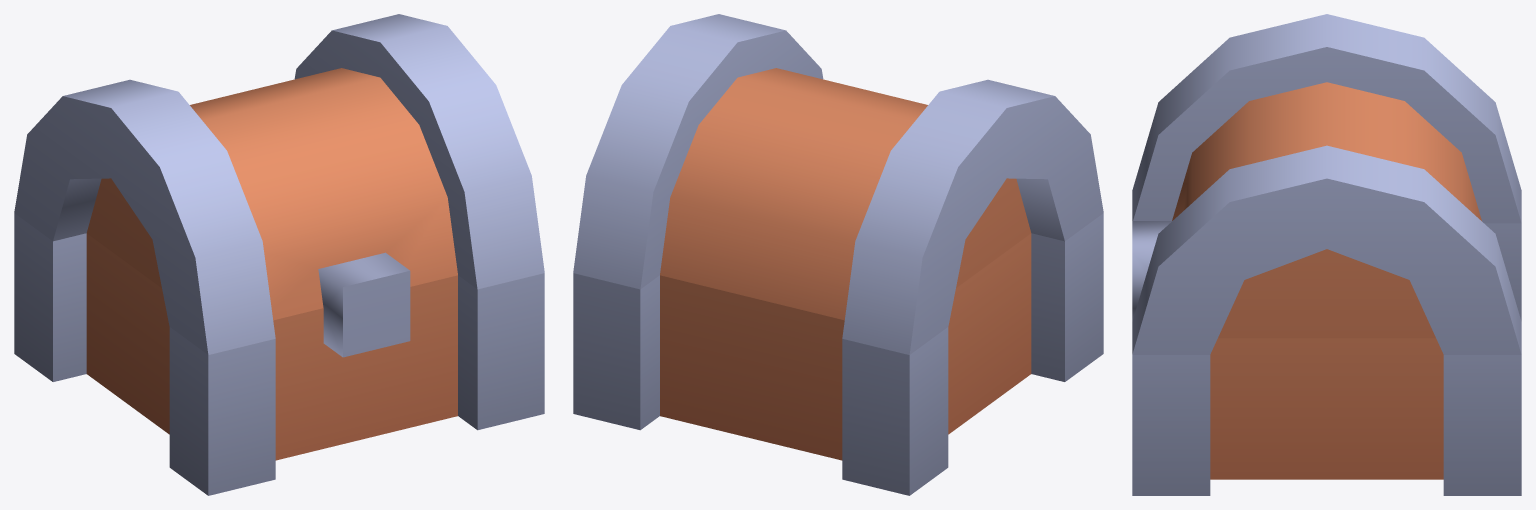
The model's file is chest.glb.
3 renders of one model, left to right at view 1: azimuth 30°, elevation 25°; view 2: azimuth 150°, elevation 25°; view 3: azimuth 270°, elevation 25°, orthographic.
Visible parts, largest first — view 1: lid, chest; view 2: lid, chest; view 3: lid, chest.
Boxes of the visible parts, x1=… form: lid: x1=14, y1=14, x2=544, y2=357; chest: x1=14, y1=213, x2=544, y2=495; lid: x1=573, y1=14, x2=1103, y2=354; chest: x1=573, y1=213, x2=1103, y2=495; lid: x1=1132, y1=14, x2=1521, y2=354; chest: x1=1132, y1=223, x2=1521, y2=495.
Bounding box in the file's own units: 1.27 × 1.15 × 1.27.
1 material, 1 textured.
